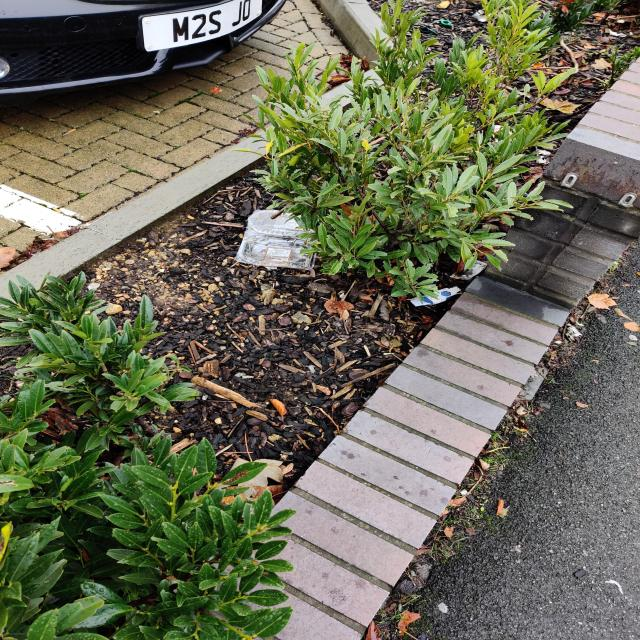litter: (229, 208, 328, 271)
